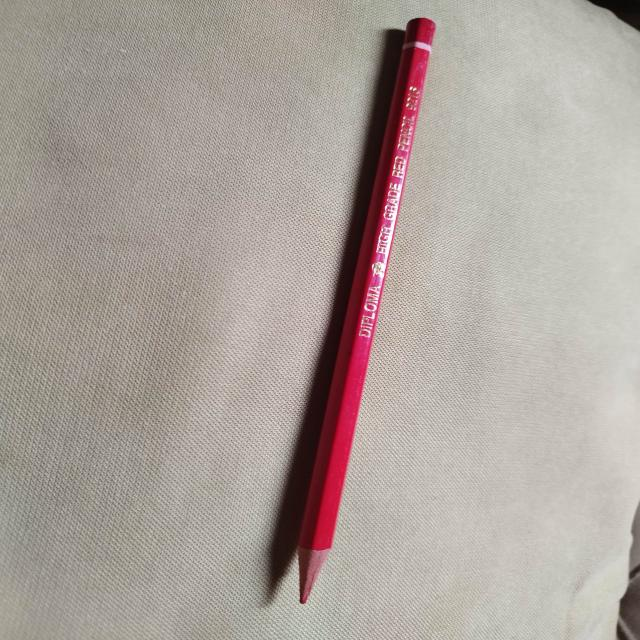pencil: (295, 17, 436, 604)
